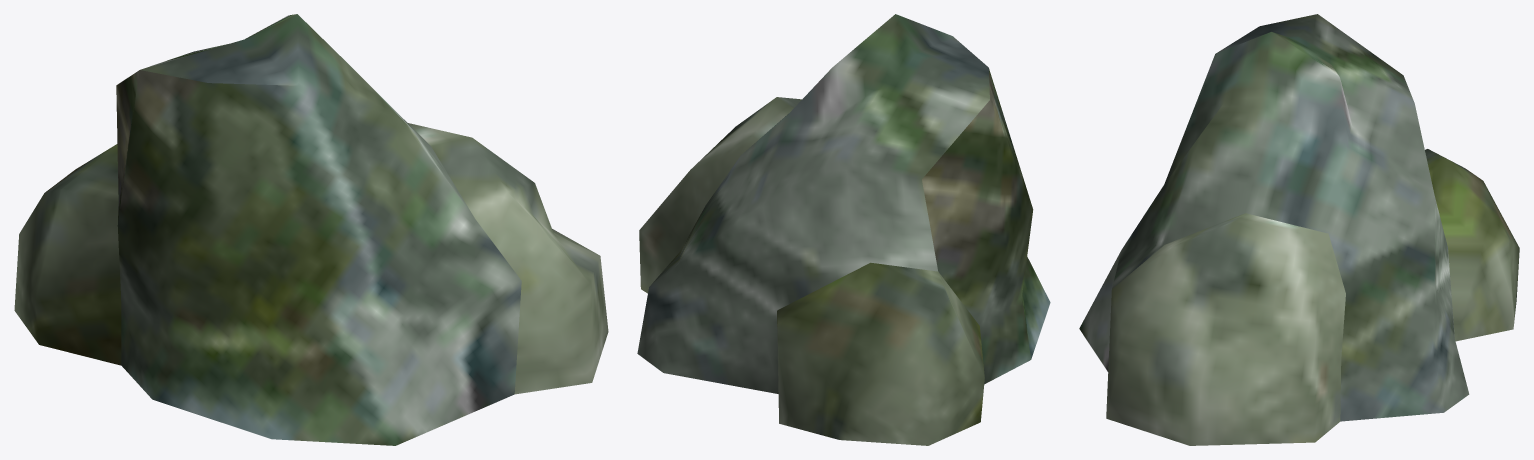
The picture shows the model from 3 angles, left to right: view 1: azimuth 30°, elevation 25°; view 2: azimuth 150°, elevation 25°; view 3: azimuth 270°, elevation 25°; orthographic projection. The views are drawn at different scales.
Parts seen in each view (by area): view 1: A_ST_14; view 2: A_ST_14; view 3: A_ST_14.
Part boxes in pixels (left/top/right/bottom): A_ST_14: left=14, top=14, right=608, bottom=445; A_ST_14: left=637, top=14, right=1050, bottom=445; A_ST_14: left=1079, top=14, right=1519, bottom=445.
Bounding box in the file's own units: 126 × 94.21 × 124.
